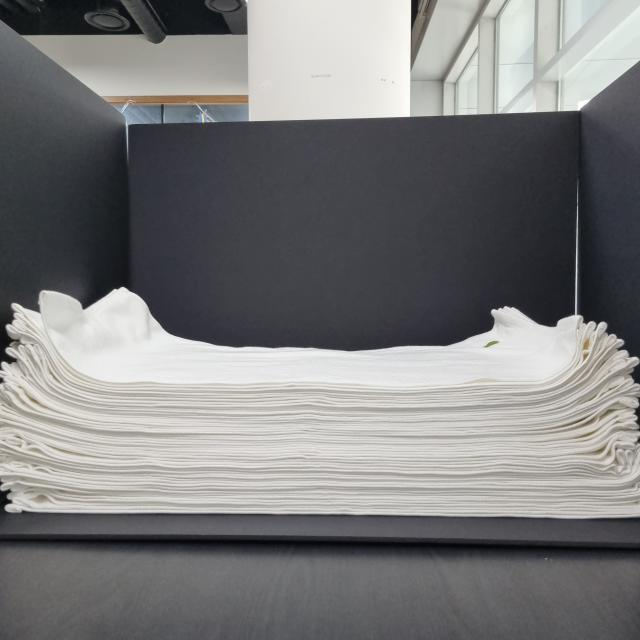50_towel_counts: (0, 274, 640, 525)
